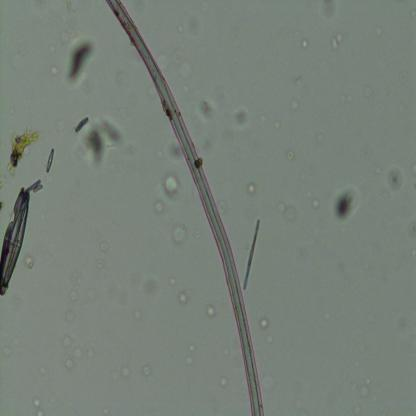Background material: (62, 32, 100, 92), (83, 118, 124, 166), (6, 130, 40, 176), (168, 9, 216, 41), (242, 218, 262, 291), (328, 186, 360, 222), (169, 49, 194, 81), (384, 166, 406, 195), (277, 200, 301, 222), (171, 222, 188, 249), (163, 174, 180, 200), (286, 71, 310, 89), (166, 137, 182, 162), (234, 106, 250, 131), (98, 235, 108, 271), (320, 1, 338, 20), (199, 99, 214, 121), (185, 341, 196, 369), (331, 32, 345, 52), (74, 116, 88, 135), (314, 128, 330, 143), (32, 396, 43, 416), (68, 287, 81, 303), (64, 356, 76, 372), (205, 304, 216, 320), (153, 200, 164, 216), (358, 385, 370, 399), (25, 254, 36, 269), (62, 336, 73, 350), (142, 364, 153, 378), (178, 289, 187, 305), (247, 182, 257, 196), (121, 364, 131, 378), (66, 309, 76, 323), (258, 317, 268, 330), (290, 99, 300, 112), (311, 196, 320, 210), (133, 309, 143, 321), (300, 37, 308, 52), (273, 116, 280, 132), (286, 150, 295, 162), (220, 375, 229, 386), (194, 228, 202, 240)
Diatom: (0, 191, 30, 296), (45, 148, 55, 172)
Microfibre: (106, 0, 263, 414)
